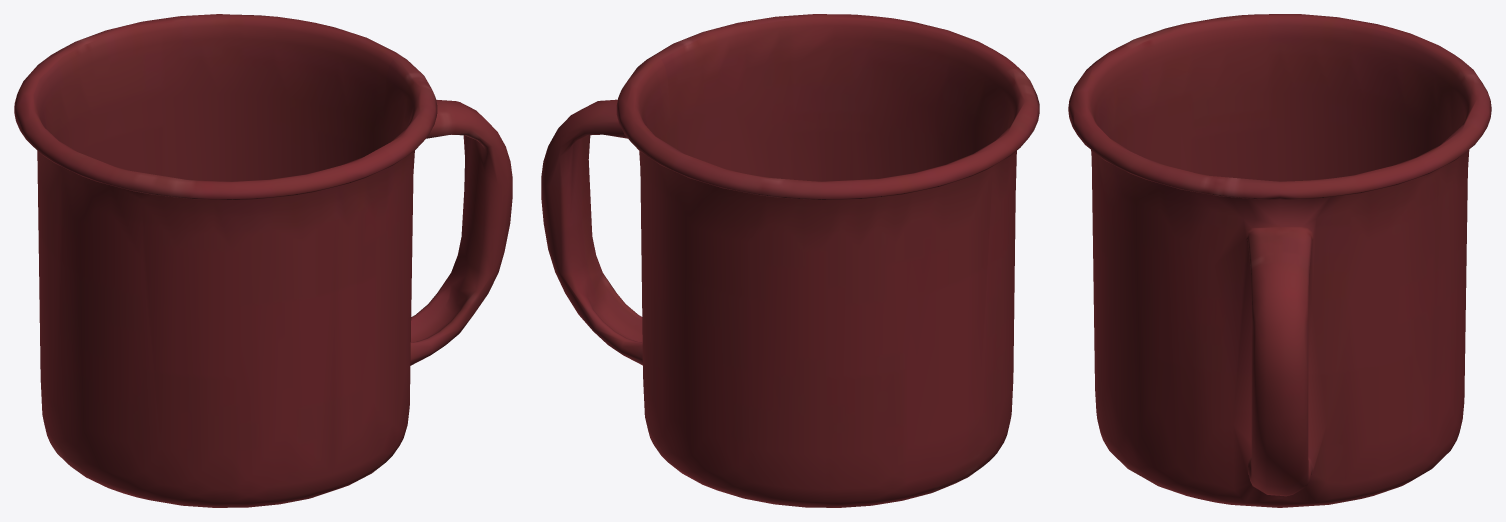
Rendered from dishware_mug_a01.glb.
3 renders of one model, left to right at view 1: azimuth 30°, elevation 25°; view 2: azimuth 150°, elevation 25°; view 3: azimuth 270°, elevation 25°, orthographic.
Parts seen in each view (by area): view 1: dishware_mug_a01_mesh_00.001; view 2: dishware_mug_a01_mesh_00.001; view 3: dishware_mug_a01_mesh_00.001.
Part boxes in pixels (box(x1,y1,x2,y2)): dishware_mug_a01_mesh_00.001: box(14, 14, 512, 507); dishware_mug_a01_mesh_00.001: box(541, 14, 1039, 507); dishware_mug_a01_mesh_00.001: box(1068, 14, 1491, 507).
Bounding box in the file's own units: 0.1143 × 0.08 × 0.0902.
Materials: 1 (1 with a texture image).
